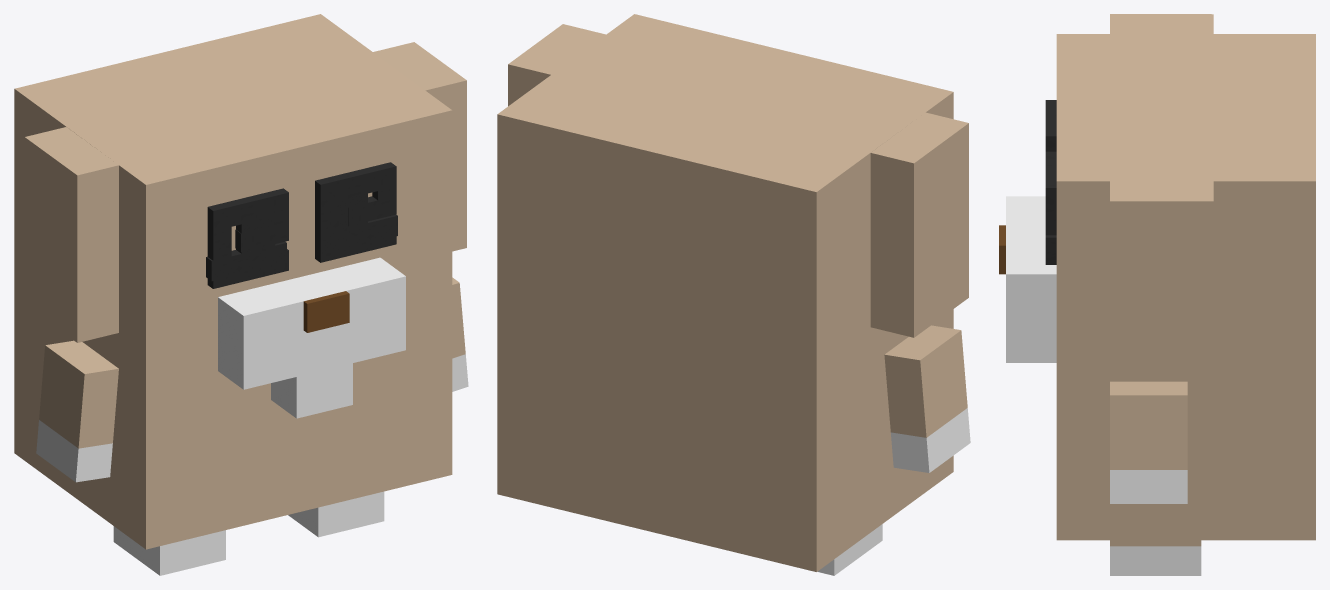
3 views of the same model, side by side, from view 1: azimuth 30°, elevation 25°; view 2: azimuth 150°, elevation 25°; view 3: azimuth 270°, elevation 25° (orthographic). The views are drawn at different scales.
Parts seen in each view (by area): view 1: Ch_26, Ch_26_Hand_L, Ch_26_Eye_03_R, Ch_26_Eye_03_L, Ch_26_Leg_L, Ch_26_Leg_R, Ch_26_Hand_R; view 2: Ch_26, Ch_26_Hand_L, Ch_26_Leg_L; view 3: Ch_26, Ch_26_Hand_R, Ch_26_Leg_R, Ch_26_Eye_03_R, Ch_26_Eye_03_L.
Part boxes in pixels (x1=…): Ch_26: x1=14, y1=14, x2=466, y2=549; Ch_26_Hand_L: x1=36, y1=340, x2=118, y2=482; Ch_26_Eye_03_R: x1=315, y1=162, x2=396, y2=262; Ch_26_Eye_03_L: x1=207, y1=188, x2=288, y2=288; Ch_26_Leg_L: x1=113, y1=526, x2=225, y2=575; Ch_26_Leg_R: x1=288, y1=491, x2=384, y2=537; Ch_26_Hand_R: x1=452, y1=277, x2=468, y2=391; Ch_26: x1=497, y1=14, x2=968, y2=571; Ch_26_Hand_L: x1=884, y1=325, x2=970, y2=472; Ch_26_Leg_L: x1=817, y1=524, x2=882, y2=575; Ch_26: x1=999, y1=14, x2=1315, y2=540; Ch_26_Hand_R: x1=1110, y1=381, x2=1187, y2=503; Ch_26_Leg_R: x1=1110, y1=540, x2=1201, y2=575; Ch_26_Eye_03_R: x1=1045, y1=151, x2=1056, y2=264; Ch_26_Eye_03_L: x1=1045, y1=100, x2=1056, y2=151.
Size of the model in its own units: 8.64 by 8.85 by 6.13.
